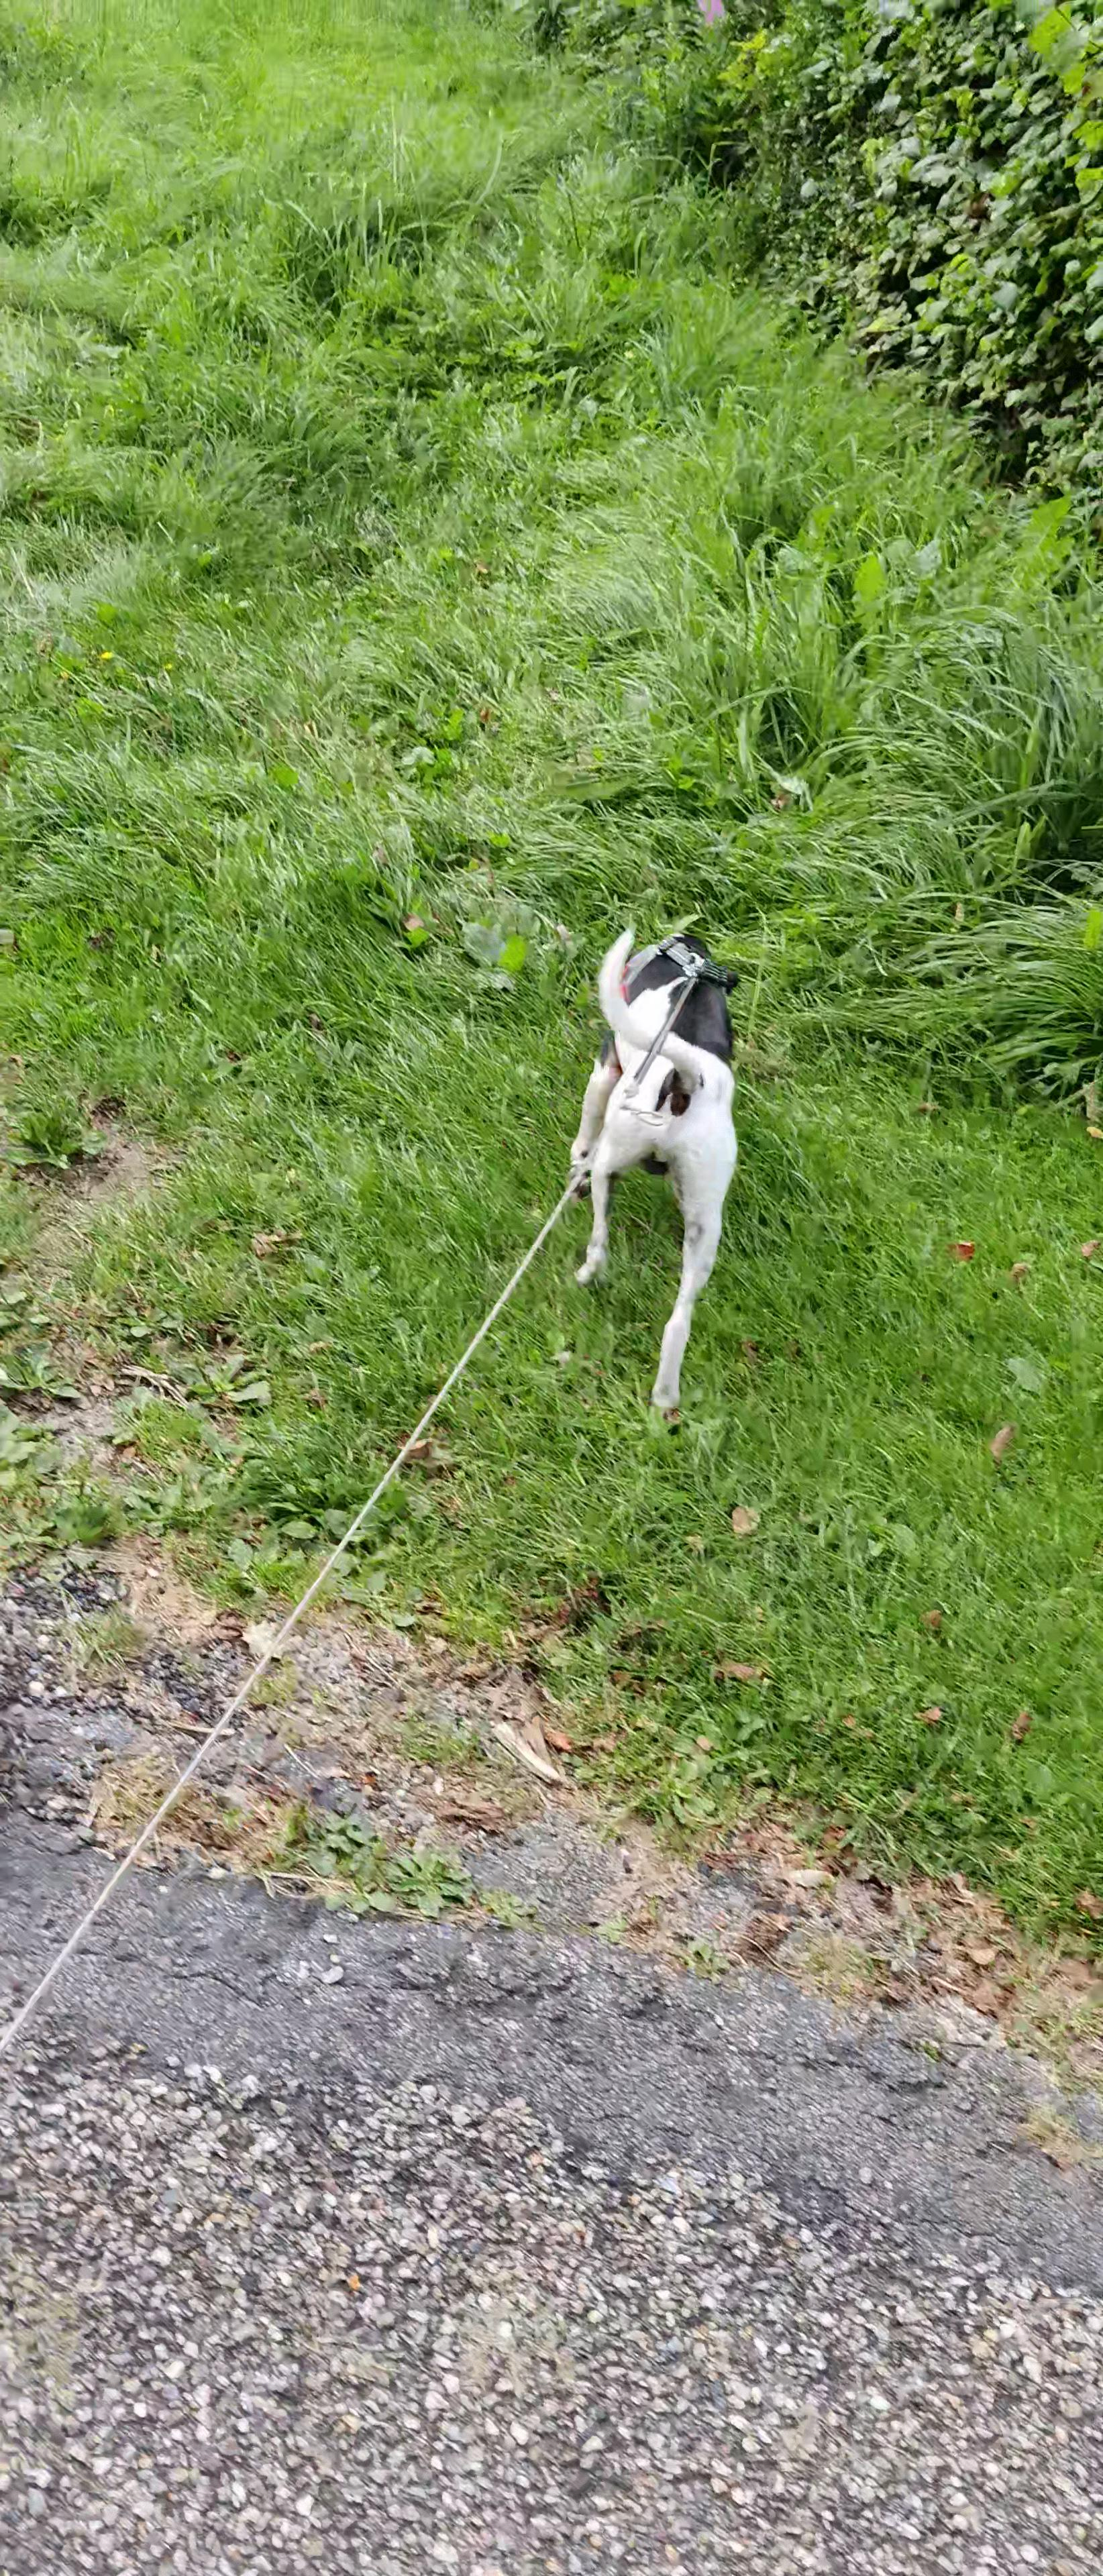Dog: (516, 890, 784, 1442)
